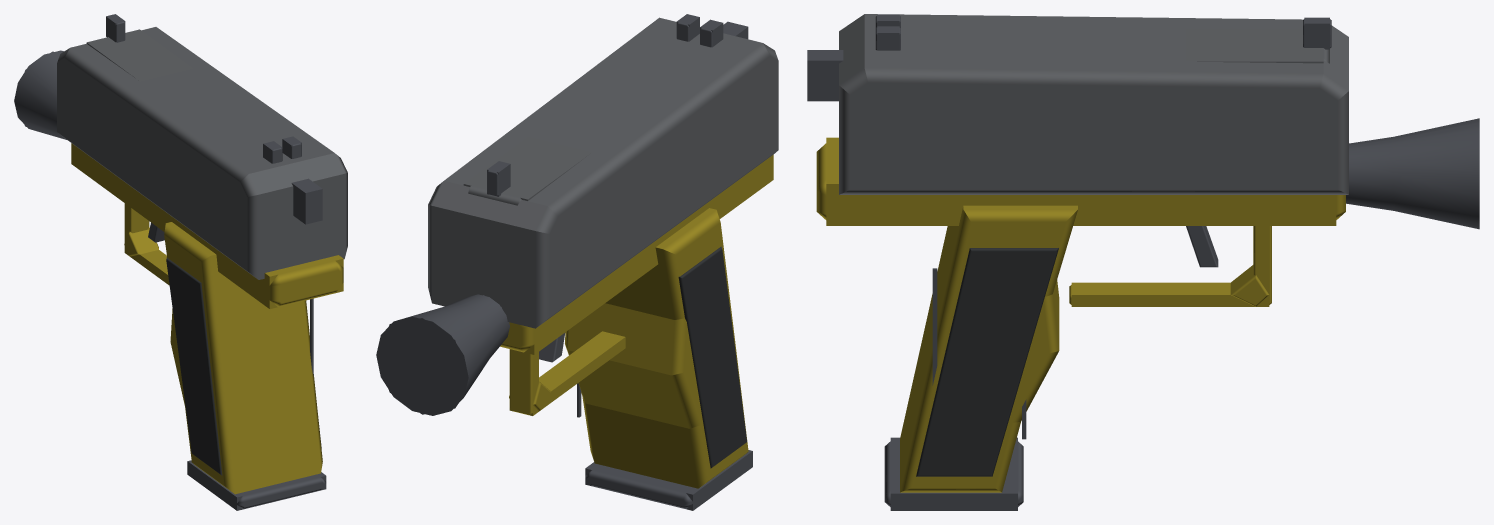
The model's file is p_flare.glb.
The picture shows the model from 3 angles, left to right: view 1: azimuth 30°, elevation 25°; view 2: azimuth 150°, elevation 25°; view 3: azimuth 270°, elevation 25°; orthographic projection. The views are drawn at different scales.
Visible parts, largest first — view 1: L0, L1; view 2: L0, L1; view 3: L0, L1.
Boxes of the visible parts, x1,y1,x2,y2 form: L0: (14, 14, 347, 509); L1: (24, 14, 343, 510); L0: (376, 14, 778, 508); L1: (377, 14, 773, 510); L0: (807, 14, 1479, 506); L1: (826, 14, 1479, 510).
Size of the model in its own units: 0.0476 by 0.16 by 0.211.
